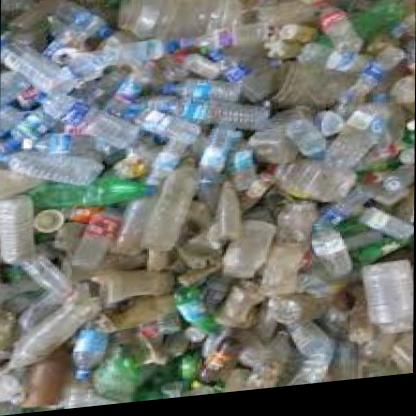Plastic: (175, 89, 267, 145), (41, 176, 152, 218), (64, 102, 138, 162), (5, 148, 93, 191), (8, 44, 70, 101), (0, 191, 40, 270), (101, 35, 187, 71), (318, 3, 365, 65), (314, 229, 358, 291), (166, 160, 200, 234), (83, 215, 126, 272), (74, 323, 114, 376), (286, 112, 324, 167)
